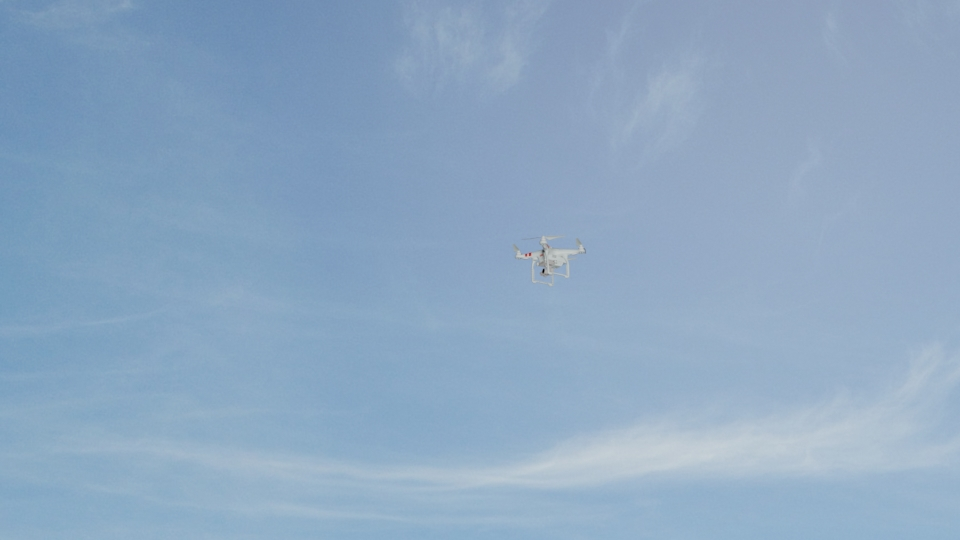drone: (511, 230, 585, 285)
